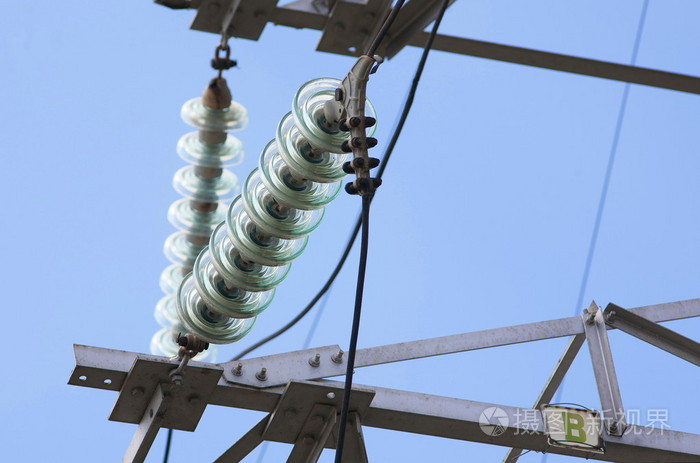insulator: (180, 77, 375, 339), (151, 97, 251, 361)
